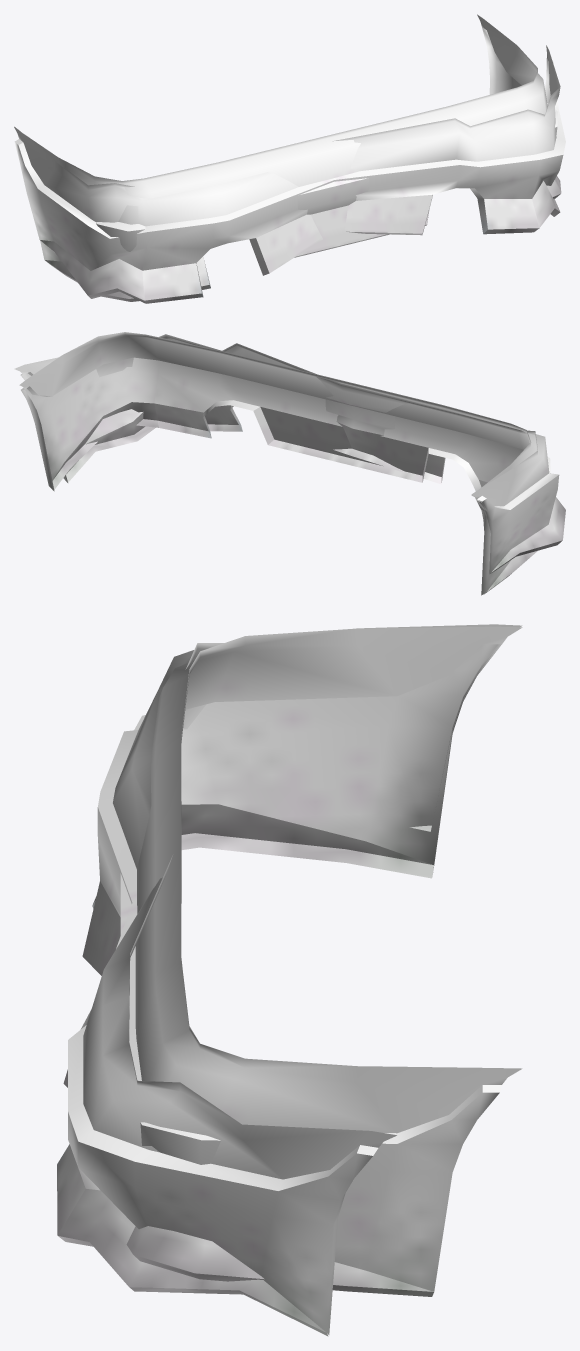
Rendered from rbmp_a_s.glb.
3 views of the same model, one above another, from view 1: azimuth 30°, elevation 25°; view 2: azimuth 150°, elevation 25°; view 3: azimuth 270°, elevation 25° (orthographic). The views are drawn at different scales.
Parts seen in each view (by area): view 1: rbmp_a_s_dam, rbmp_a_s; view 2: rbmp_a_s, rbmp_a_s_dam; view 3: rbmp_a_s, rbmp_a_s_dam.
Boxes of the visible parts, bbox=[...] form: rbmp_a_s_dam: bbox=[14, 45, 565, 303]; rbmp_a_s: bbox=[14, 14, 561, 301]; rbmp_a_s: bbox=[19, 332, 550, 595]; rbmp_a_s_dam: bbox=[14, 334, 565, 573]; rbmp_a_s: bbox=[120, 626, 522, 1296]; rbmp_a_s_dam: bbox=[57, 624, 522, 1336].
Size of the model in its own units: 2.32 by 0.6015 by 0.9402.
Materials: 1 (1 with a texture image).
